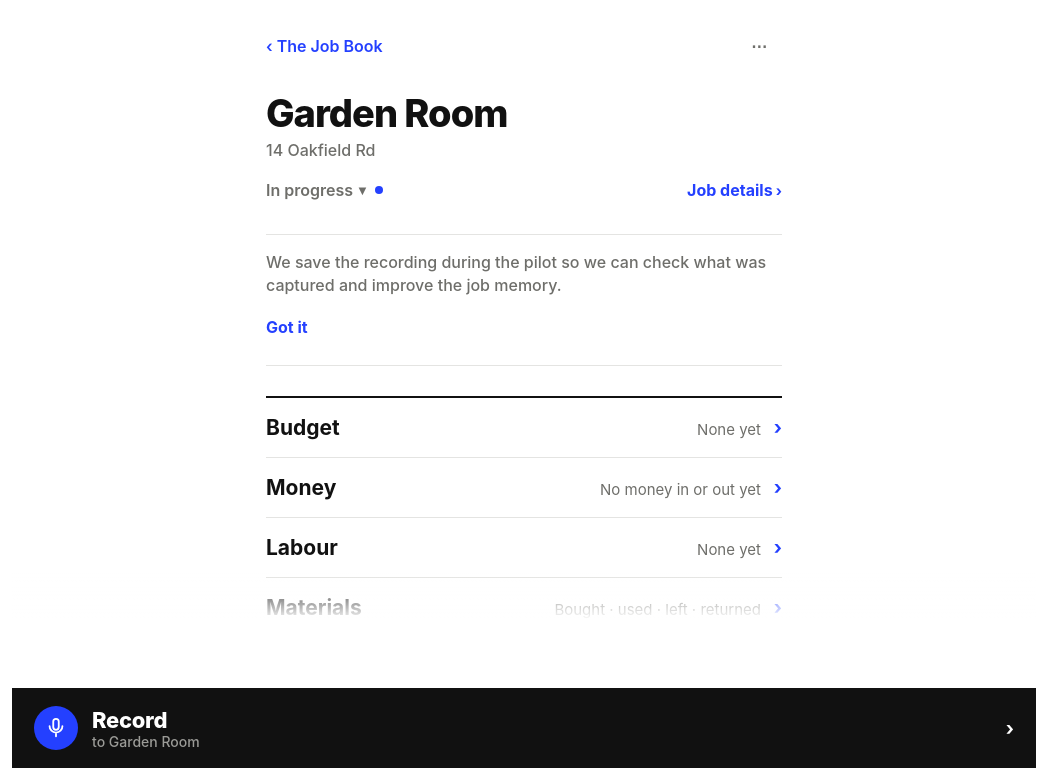
Test: CurrentJobWorkspace — shell › shows the storage explainer on first visit and hides it after dismissal
The width and height of the screenshot is (1048, 768).
Expected: the text "save the recording during the pilot" is shown, [266,252,766,295]
Click the button "Got it": (287, 327) [266,305,308,349]
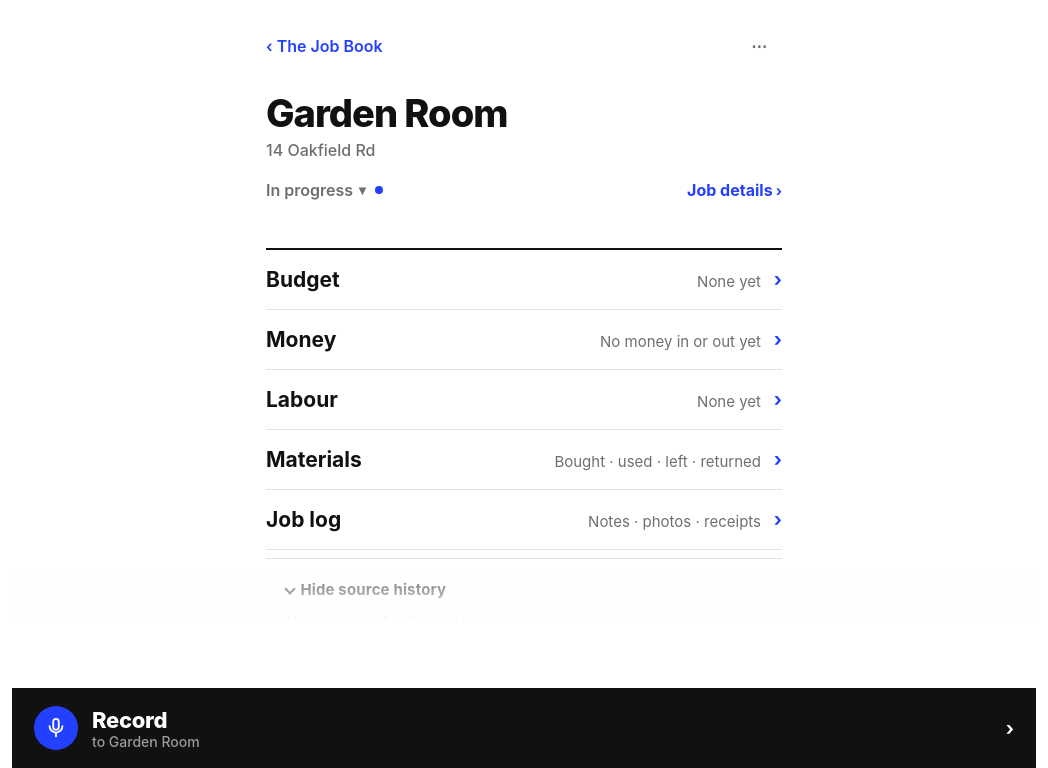
Now the button "Got it" is gone
